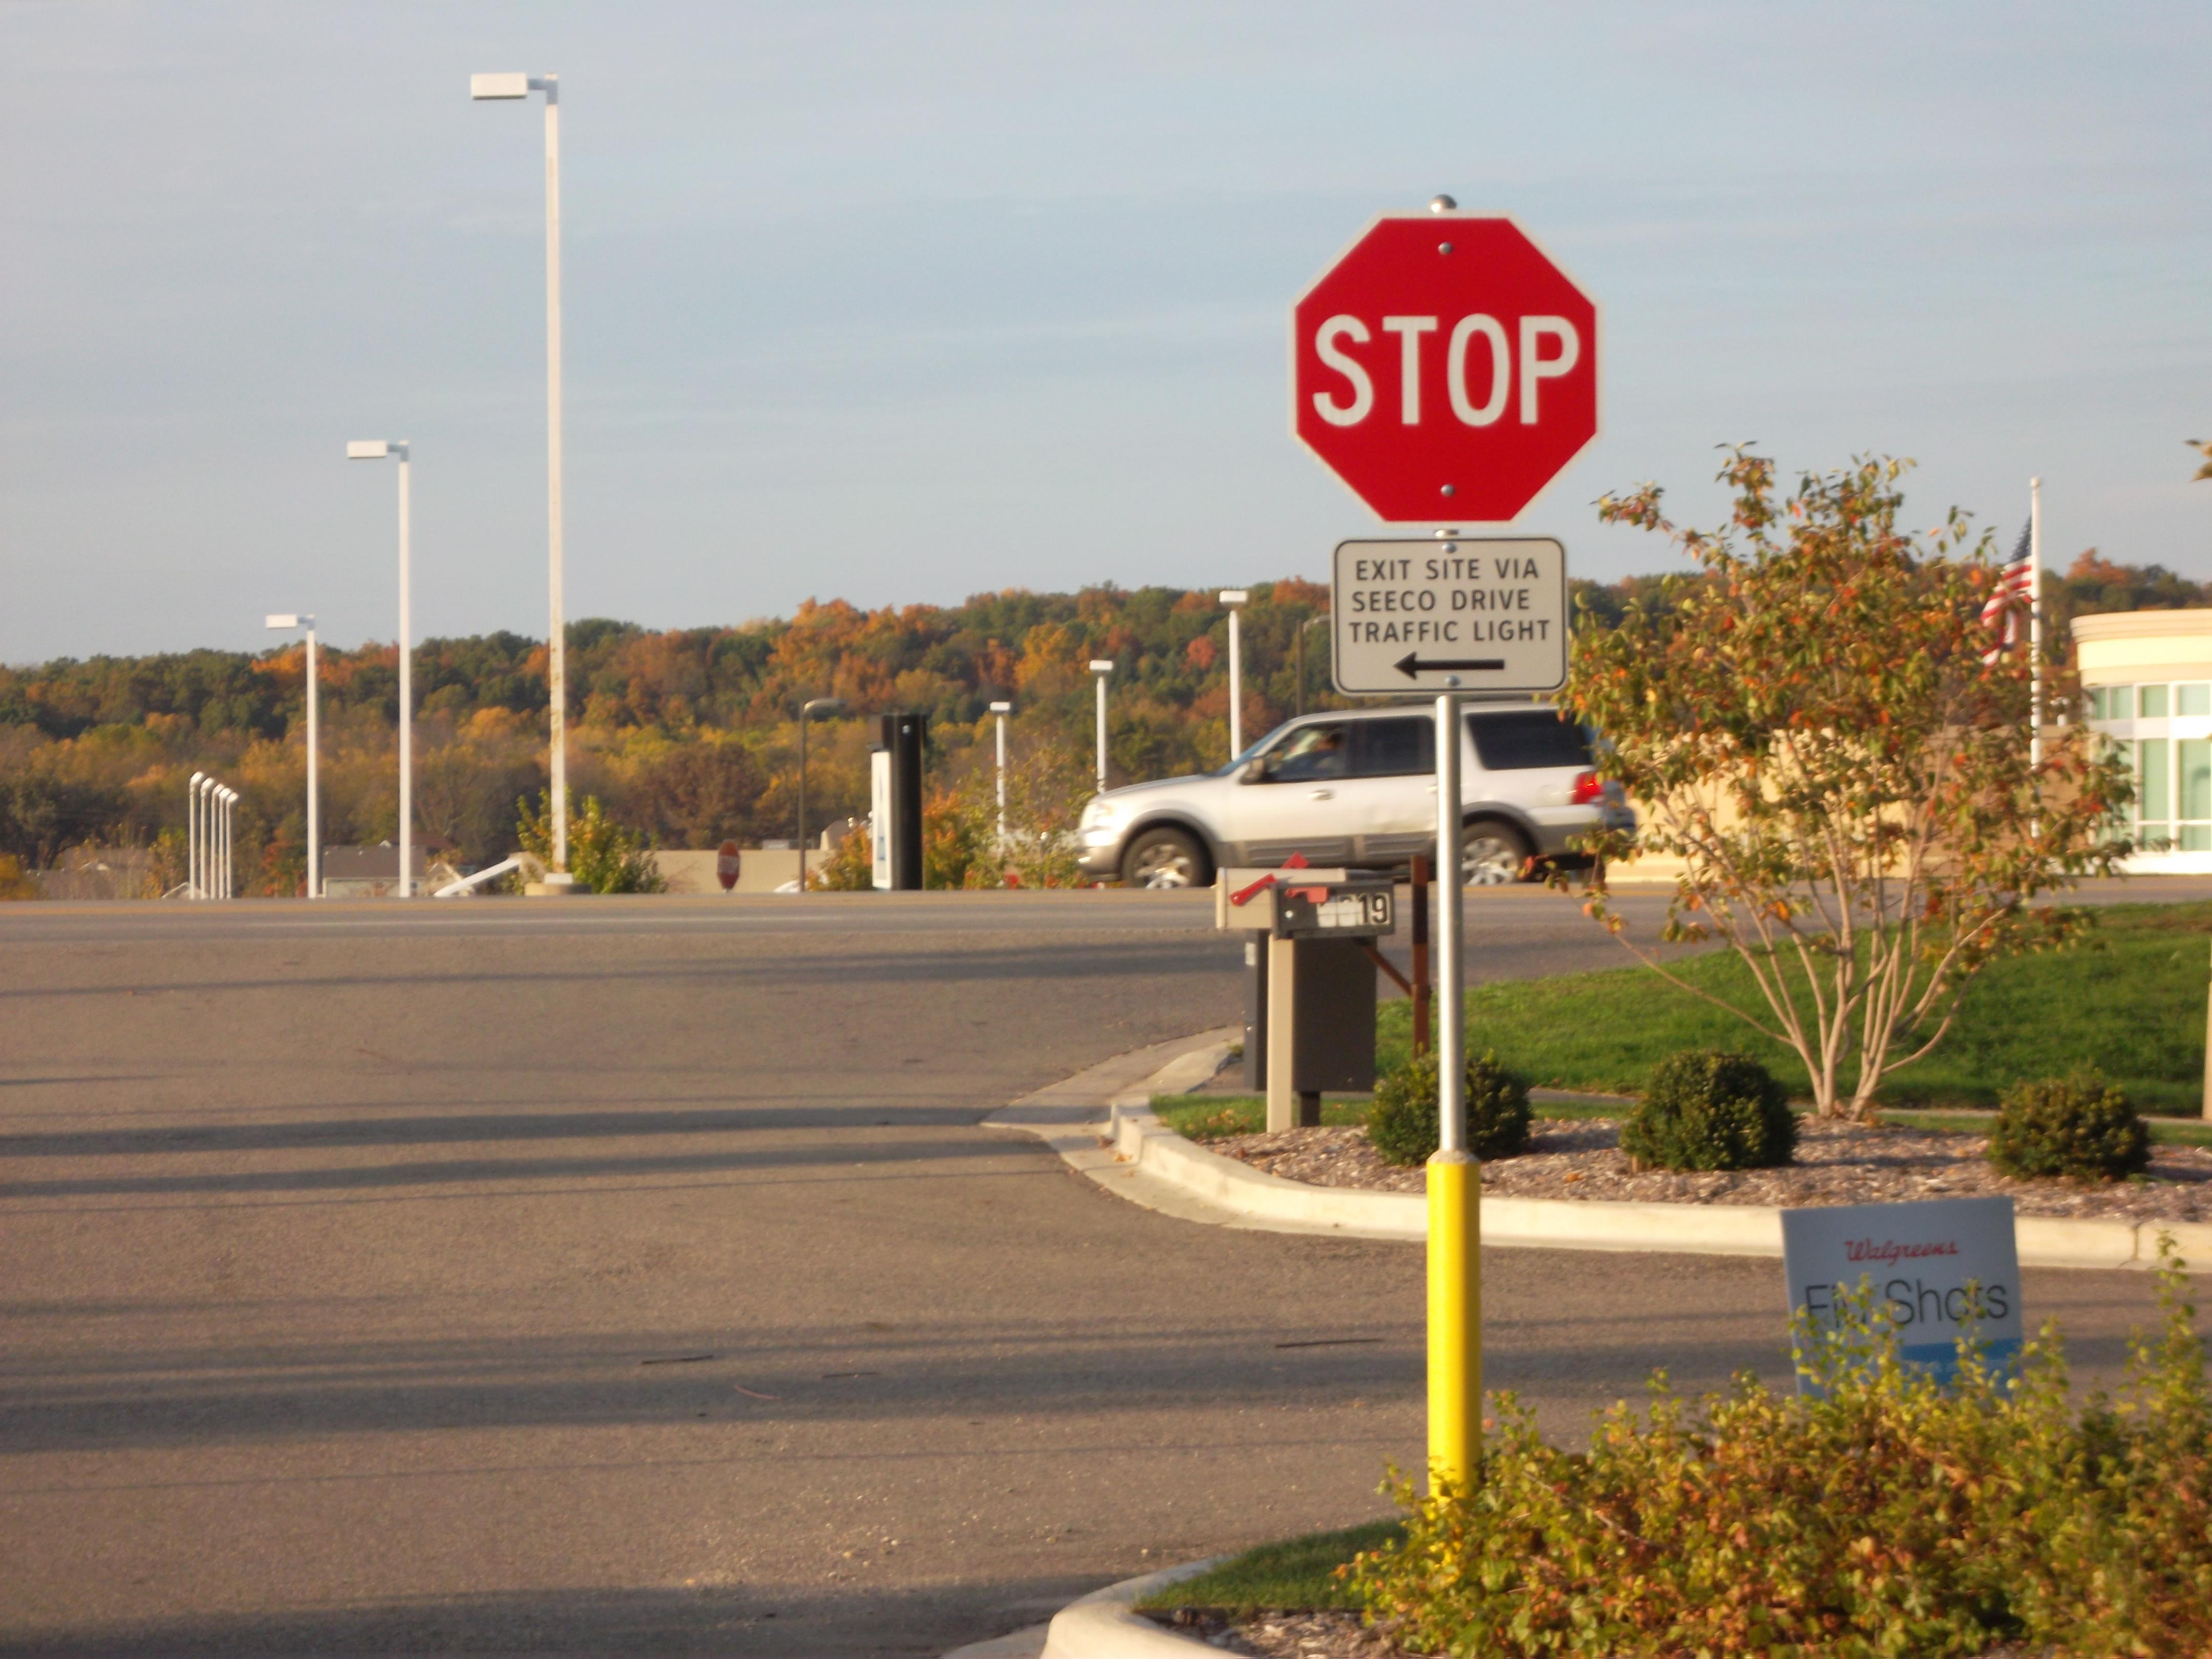stop: (1285, 211, 1608, 532)
